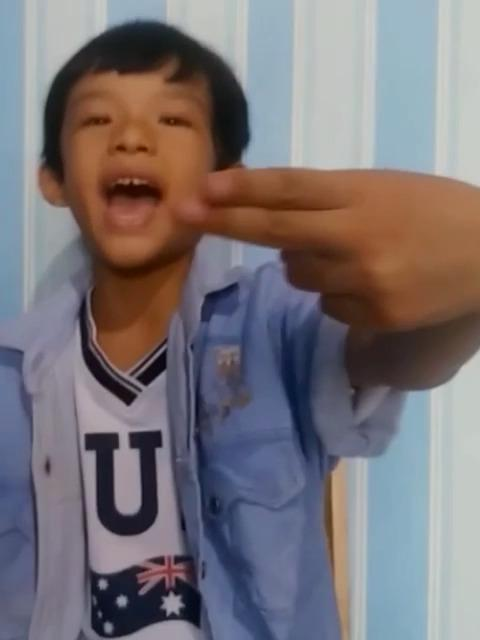H: (168, 166, 480, 342)
